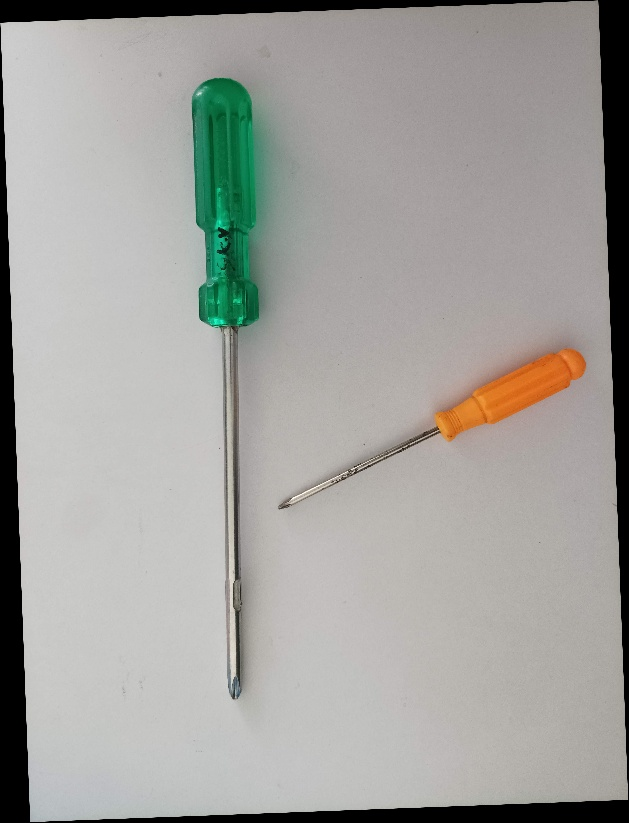screwdriver: (272, 340, 590, 511), (190, 74, 262, 701)
